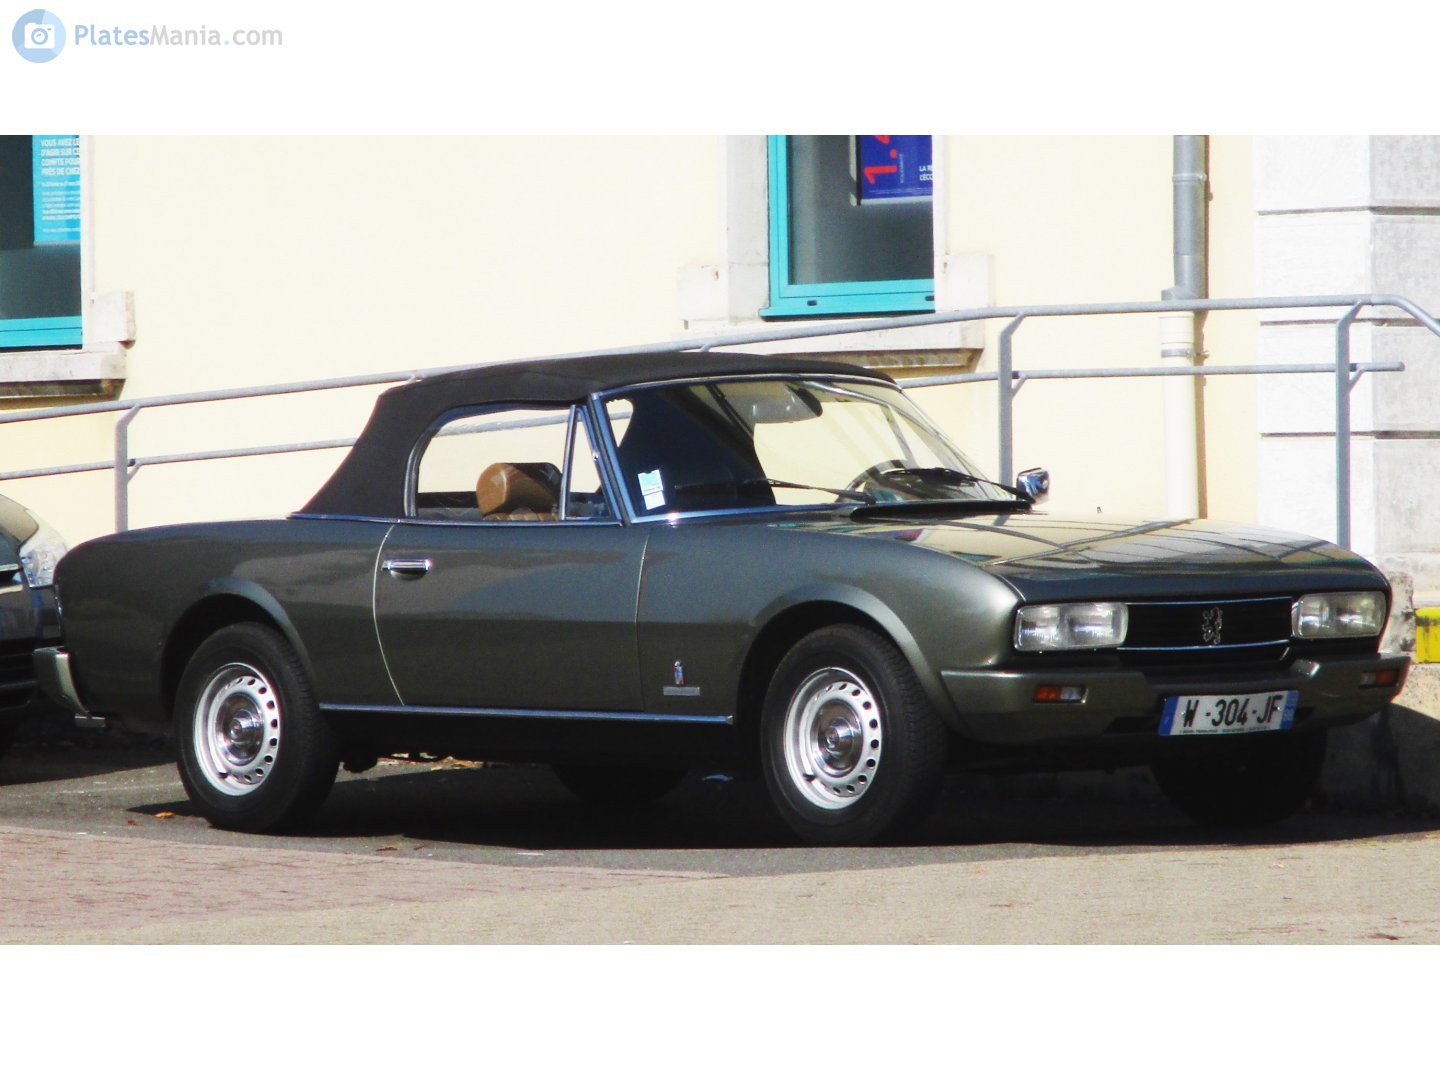licence plate: (1150, 683, 1315, 740)
